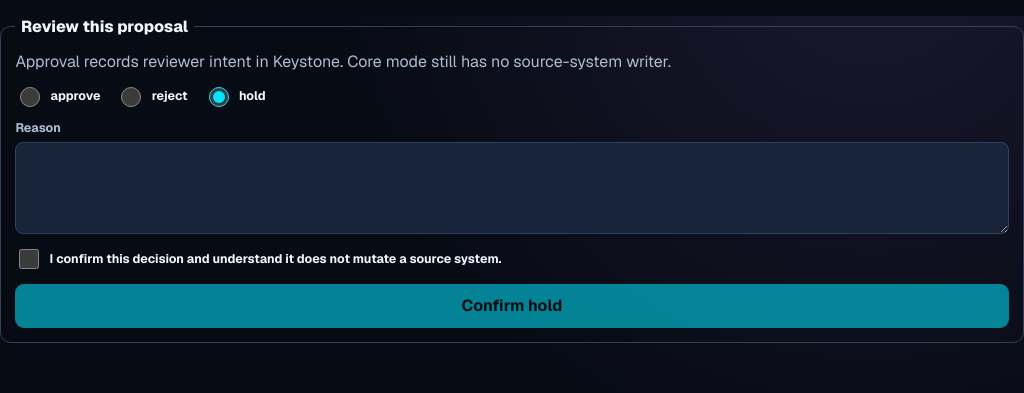
pending proposal decision › clears a prior error before retrying
Type "Evidence verified" into the text box labelled "Reason" at (512,188), box [15,142,1009,234]
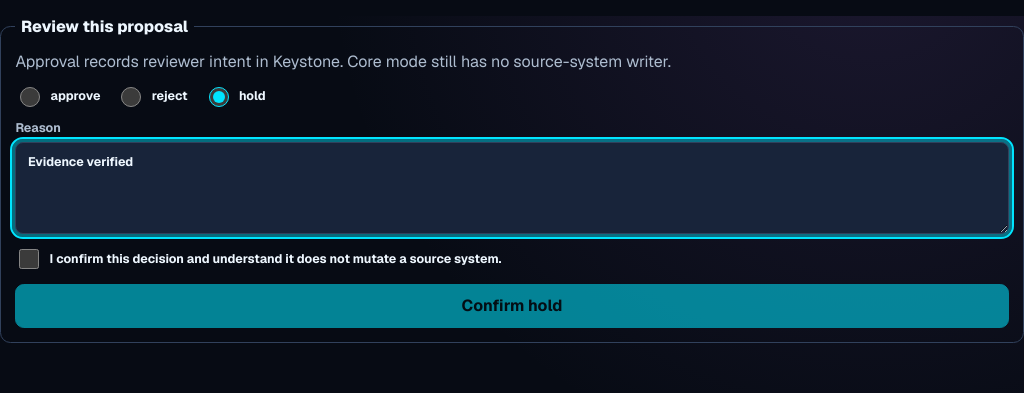
Click the checkbox labelled "I confirm" at (29,259), box [19,249,39,269]
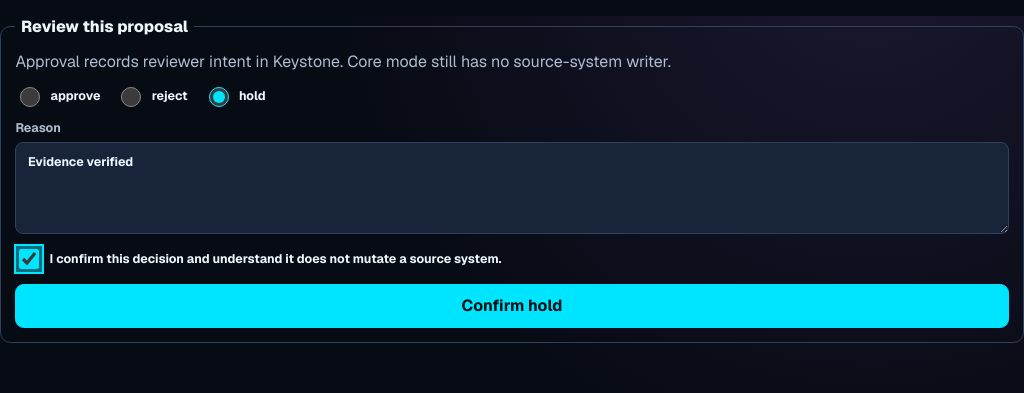
Click the button "Confirm hold" at (512,306), box [15,284,1009,328]
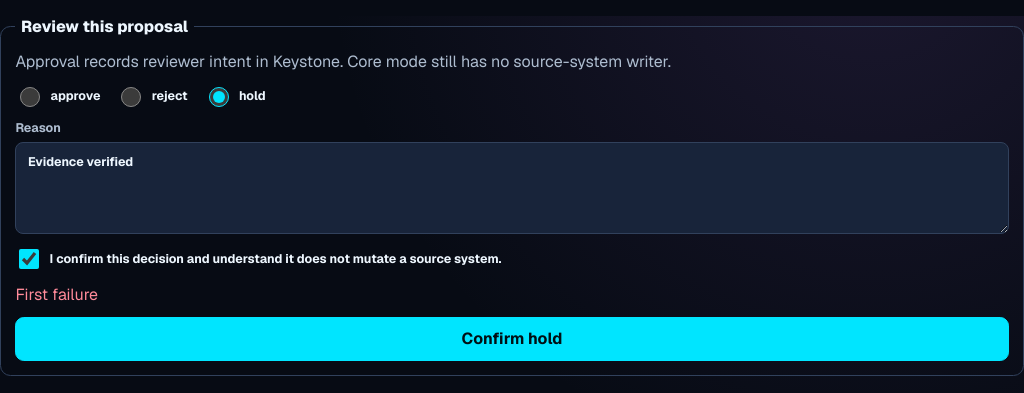
expect the message reads "First failure": met, box [15,284,98,305]
Click the button "Confirm hold" at (512,339), box [15,317,1009,361]
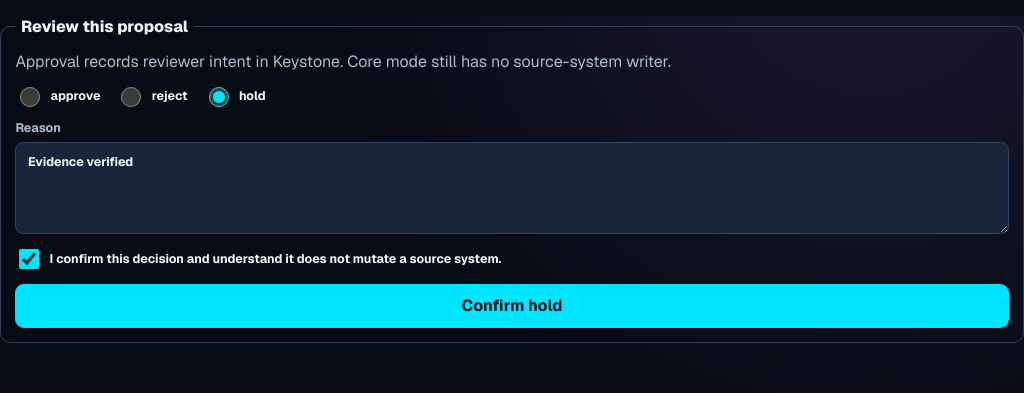
expect the message "First failure" is gone: met
